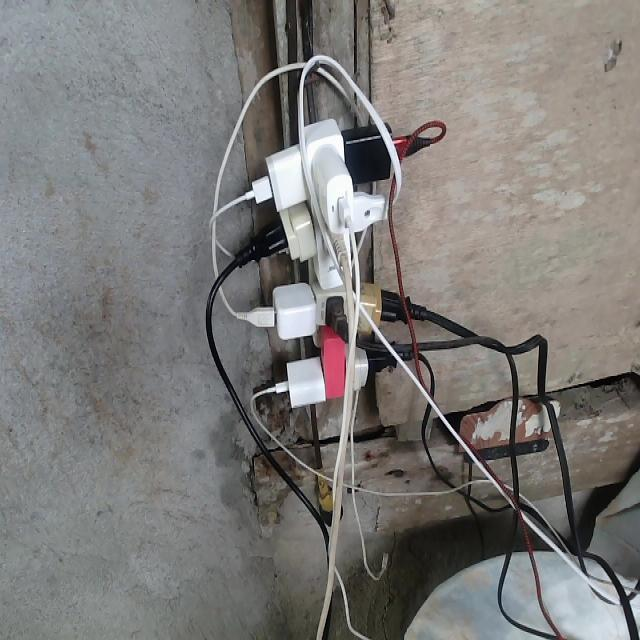-: (196, 110, 451, 410)
